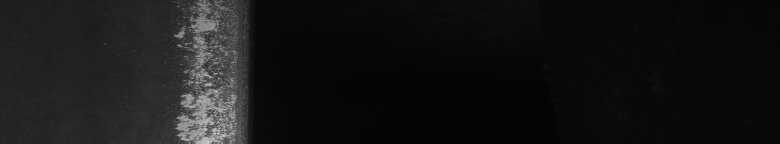kb: (174, 4, 235, 136)
